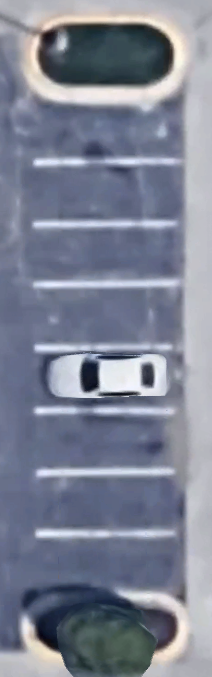Occupied: (36, 348, 181, 412)
Vacant: (35, 284, 181, 348), (34, 162, 181, 225), (36, 534, 180, 598), (34, 99, 181, 161), (36, 471, 180, 533), (34, 224, 181, 284), (36, 412, 180, 471)
